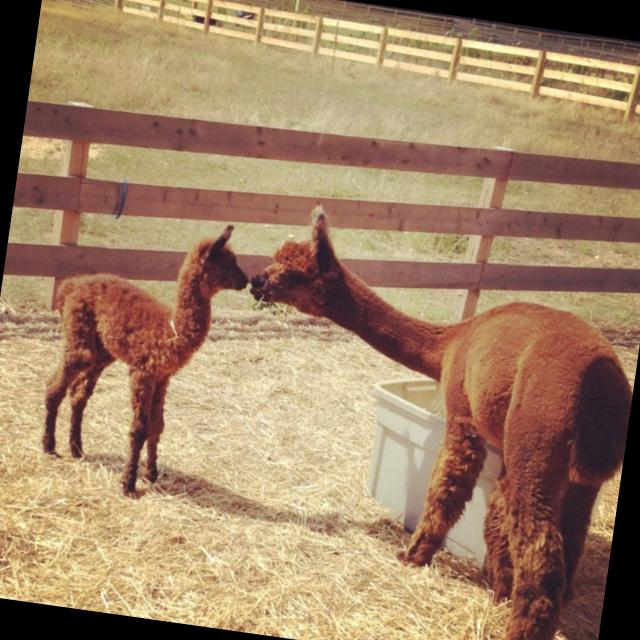alpaca: (204, 202, 640, 640), (23, 202, 256, 509)
